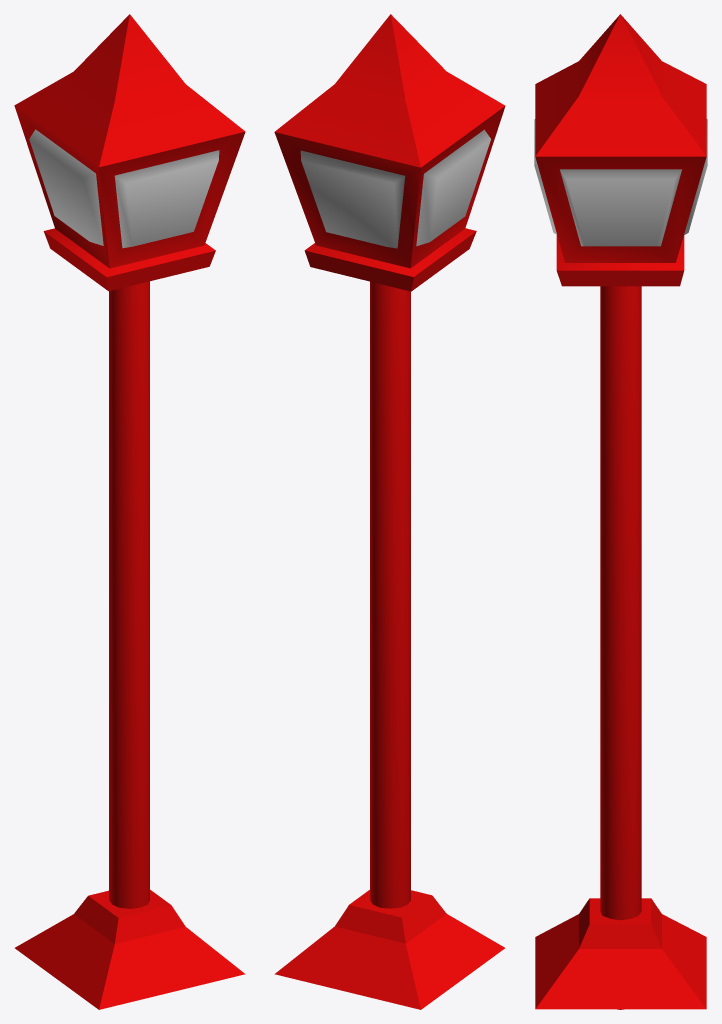
Rendered from lightpole.fbx.
3 renders of one model, left to right at view 1: azimuth 30°, elevation 25°; view 2: azimuth 150°, elevation 25°; view 3: azimuth 270°, elevation 25°, orthographic.
Visible parts, largest first — view 1: Light1:Light1_0; view 2: Light1:Light1_0; view 3: Light1:Light1_0.
Part boxes in pixels (x1,y1,x2,y2): Light1:Light1_0: (14,14,245,1009); Light1:Light1_0: (274,14,505,1009); Light1:Light1_0: (534,14,707,1009).
Size of the model in its own units: 0.5344 by 3.35 by 0.5344.
